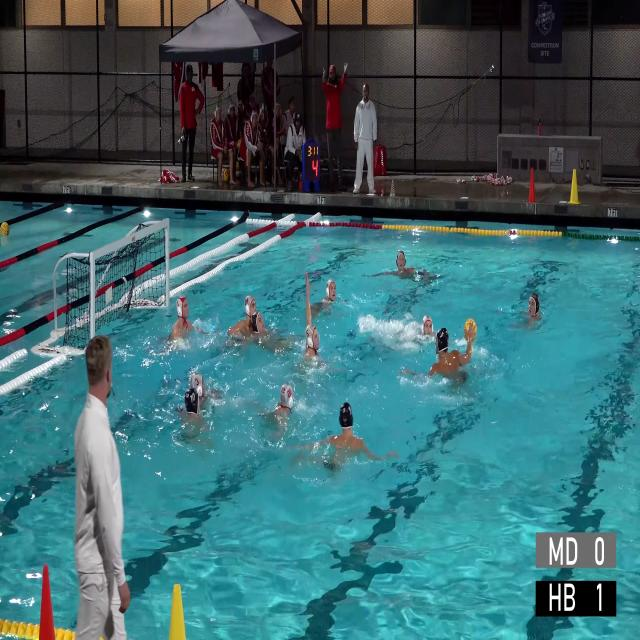ball: (463, 318, 477, 342), (0, 222, 10, 236), (223, 168, 230, 182), (237, 139, 242, 148), (236, 162, 239, 170)
